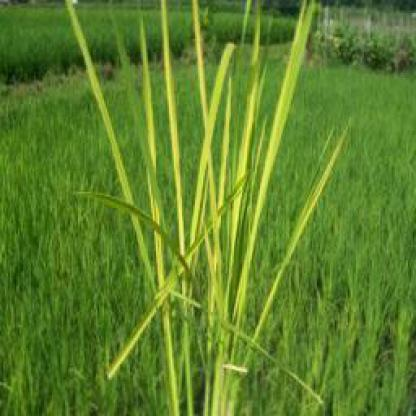Tungro: (63, 1, 154, 294), (238, 3, 321, 323), (250, 144, 357, 357), (221, 8, 271, 414), (204, 39, 238, 416), (161, 3, 190, 284), (105, 289, 178, 380), (139, 18, 157, 247), (172, 344, 224, 416), (198, 3, 210, 312)
